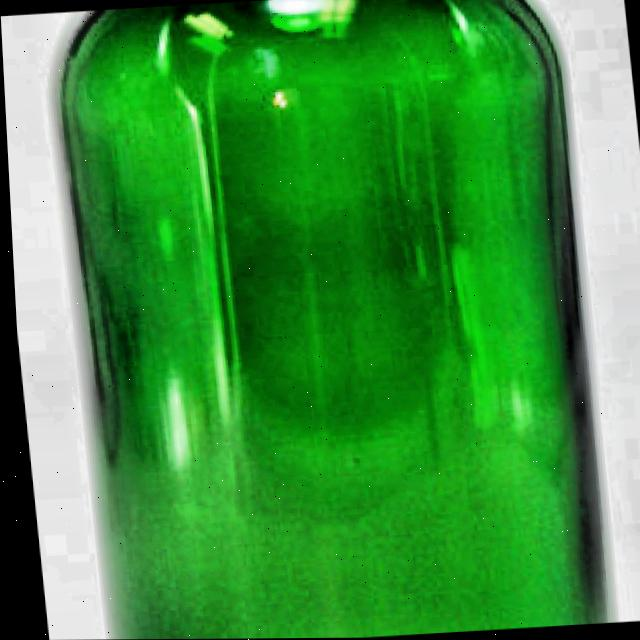glass: (42, 0, 612, 640)
